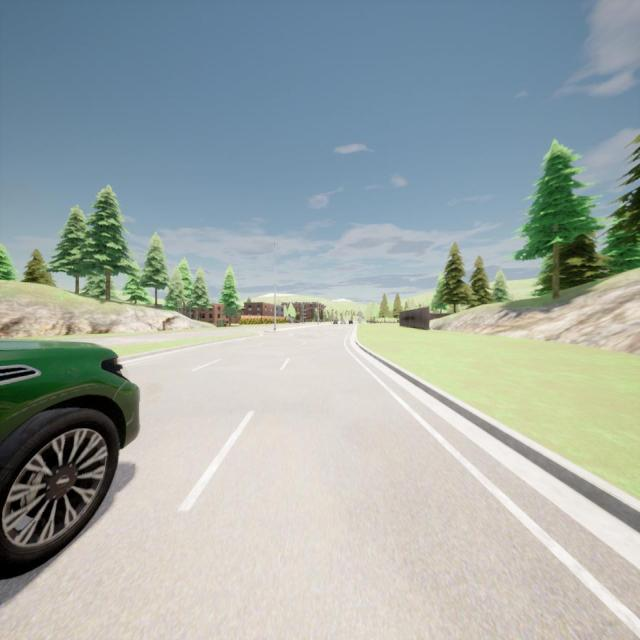Vehicle: (0, 340, 139, 577), (332, 320, 338, 326), (341, 320, 346, 325), (349, 320, 353, 325)
